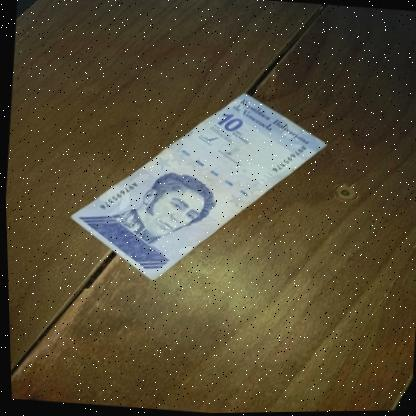ten-front-vef: (59, 77, 332, 296)
